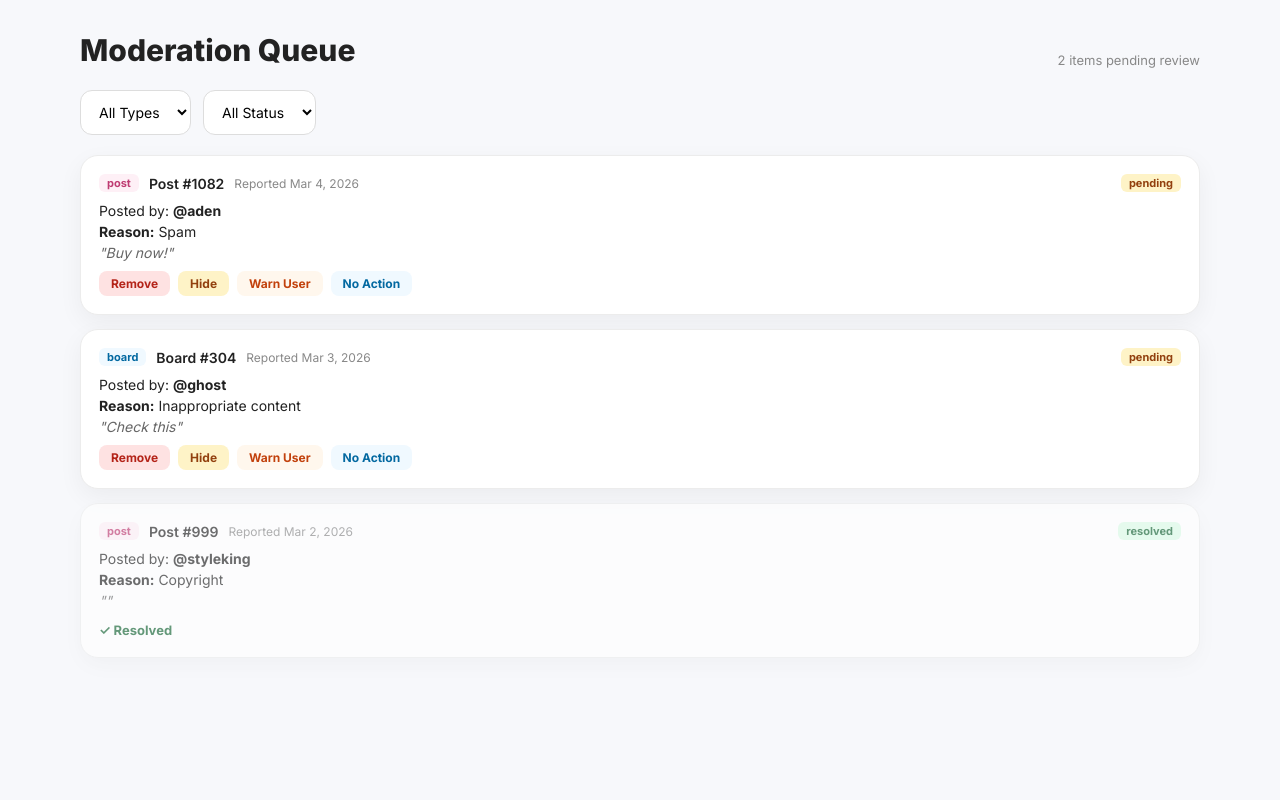
Test case: filters reports by type
Select "Posts" in the 1st dropdown: (136, 112) [80,90,191,135]
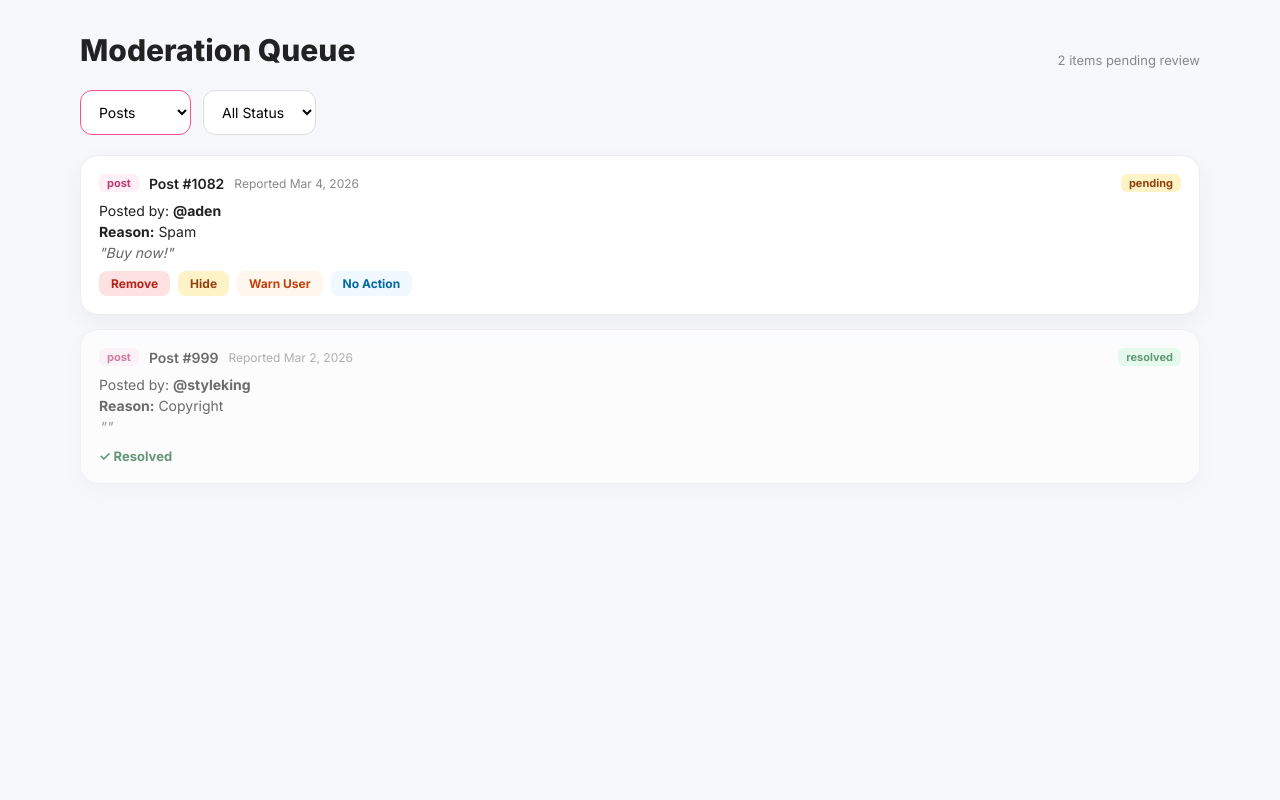
Expected: the text "Post #1082" is shown, [149,174,224,192]
Expected: the text "Board #304" is gone
